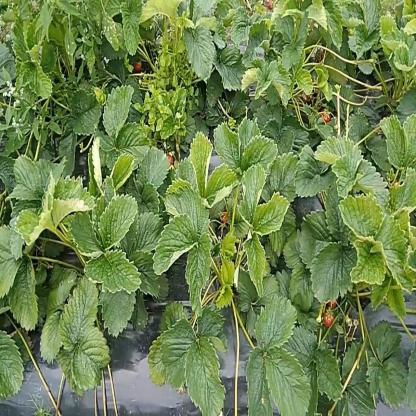ripe: (323, 307, 334, 329), (166, 153, 175, 168), (133, 58, 141, 74), (321, 108, 329, 123)
